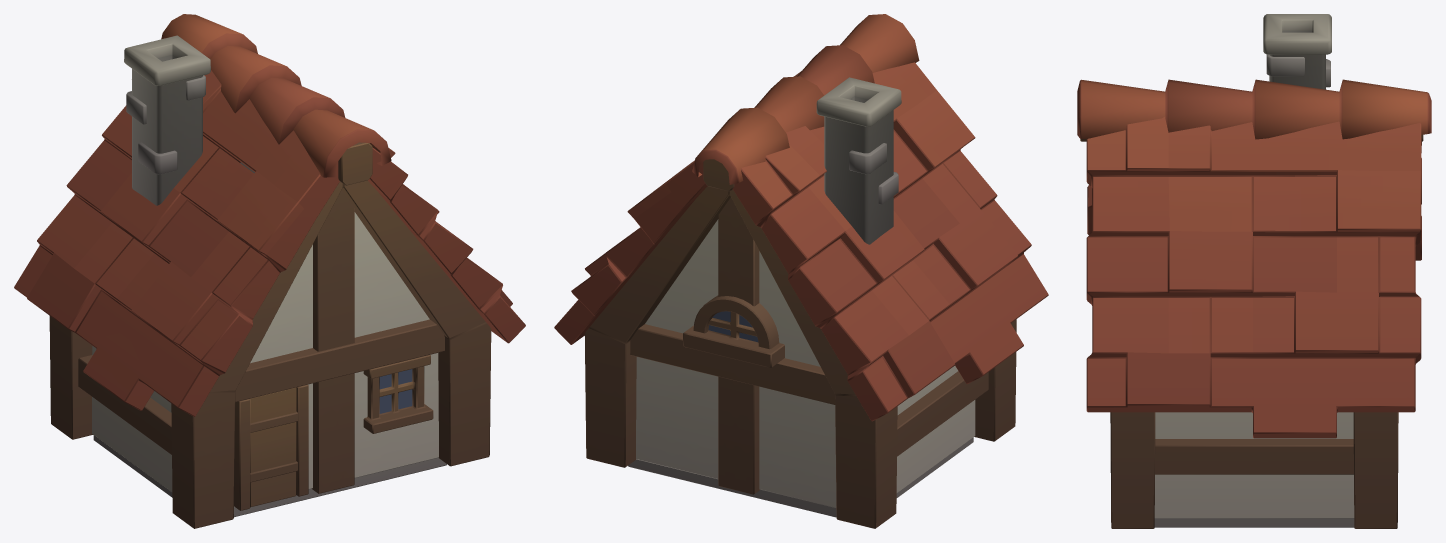
Rendered from house1_beveled.fbx.
The picture shows the model from 3 angles, left to right: view 1: azimuth 30°, elevation 25°; view 2: azimuth 150°, elevation 25°; view 3: azimuth 270°, elevation 25°; orthographic projection. The views are drawn at different scales.
Visible parts, largest first — view 1: chonkyHouse1; view 2: chonkyHouse1; view 3: chonkyHouse1.
Part boxes in pixels (x1,y1,x2,y2): chonkyHouse1: (14, 14, 525, 528); chonkyHouse1: (554, 14, 1048, 528); chonkyHouse1: (1077, 14, 1431, 528).
Size of the model in its own units: 403 by 417 by 332.
